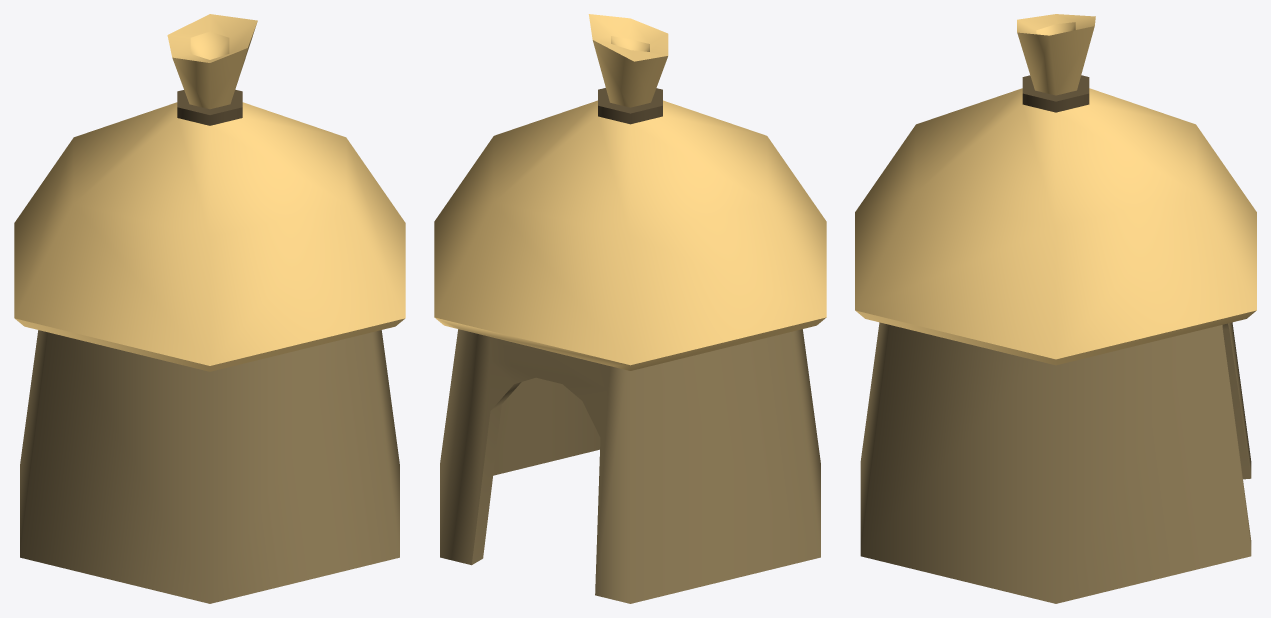
File: west_hut.glb
The picture shows the model from 3 angles, left to right: view 1: azimuth 30°, elevation 25°; view 2: azimuth 150°, elevation 25°; view 3: azimuth 270°, elevation 25°; orthographic projection. The views are drawn at different scales.
Parts seen in each view (by area): view 1: SM_Hut:SM_Hut; view 2: SM_Hut:SM_Hut; view 3: SM_Hut:SM_Hut.
Part boxes in pixels (left/top/right/bottom): SM_Hut:SM_Hut: left=14, top=14, right=405, bottom=603; SM_Hut:SM_Hut: left=434, top=14, right=826, bottom=603; SM_Hut:SM_Hut: left=855, top=14, right=1256, bottom=603.
Size of the model in its own units: 7.28 by 8.63 by 6.3.
